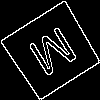M: (26, 25, 85, 86)
